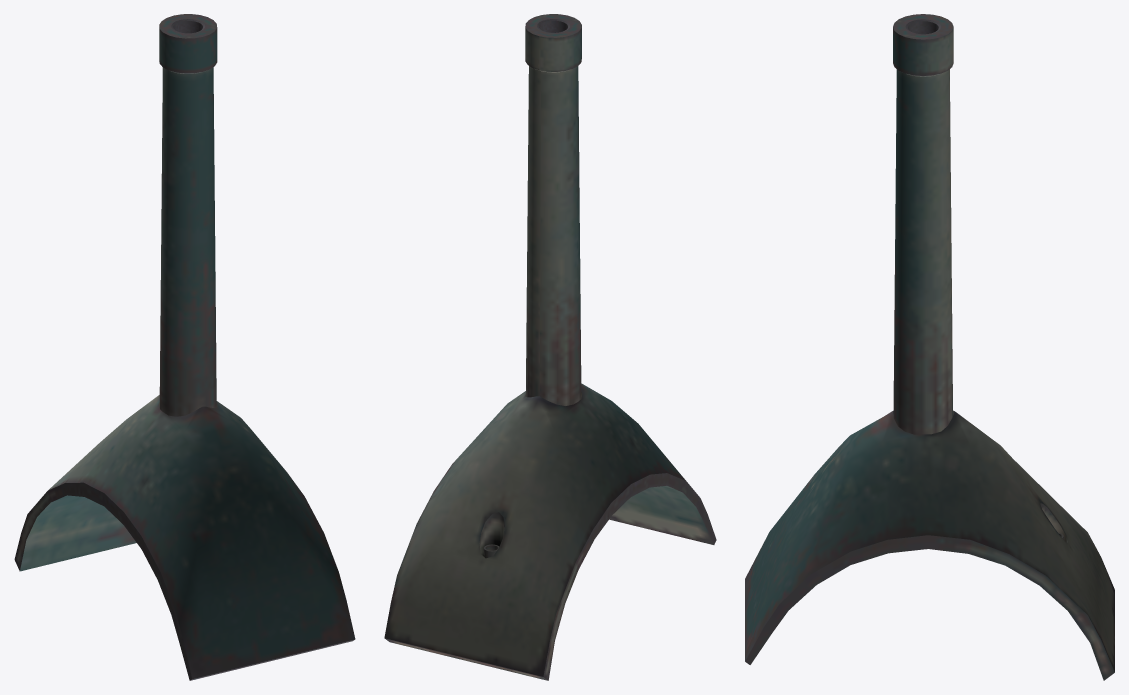
File: Gun_02.glb
The picture shows the model from 3 angles, left to right: view 1: azimuth 30°, elevation 25°; view 2: azimuth 150°, elevation 25°; view 3: azimuth 270°, elevation 25°; orthographic projection. The views are drawn at different scales.
Parts seen in each view (by area): view 1: set_0_group_0; view 2: set_0_group_0; view 3: set_0_group_0.
Boxes of the visible parts, bbox=[...] form: set_0_group_0: bbox=[14, 14, 355, 680]; set_0_group_0: bbox=[384, 14, 716, 680]; set_0_group_0: bbox=[745, 14, 1114, 680].
Bounding box in the file's own units: 0.3061 × 1.06 × 0.5775.
1 material, 1 textured.
